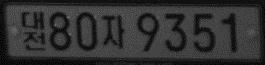0: (74, 11, 98, 52)
1: (220, 13, 244, 52)
3: (164, 12, 187, 52)
5: (192, 12, 215, 52)
8: (48, 10, 72, 51)
9: (136, 12, 160, 51)
대전_V: (20, 10, 46, 51)
자: (101, 13, 125, 49)
